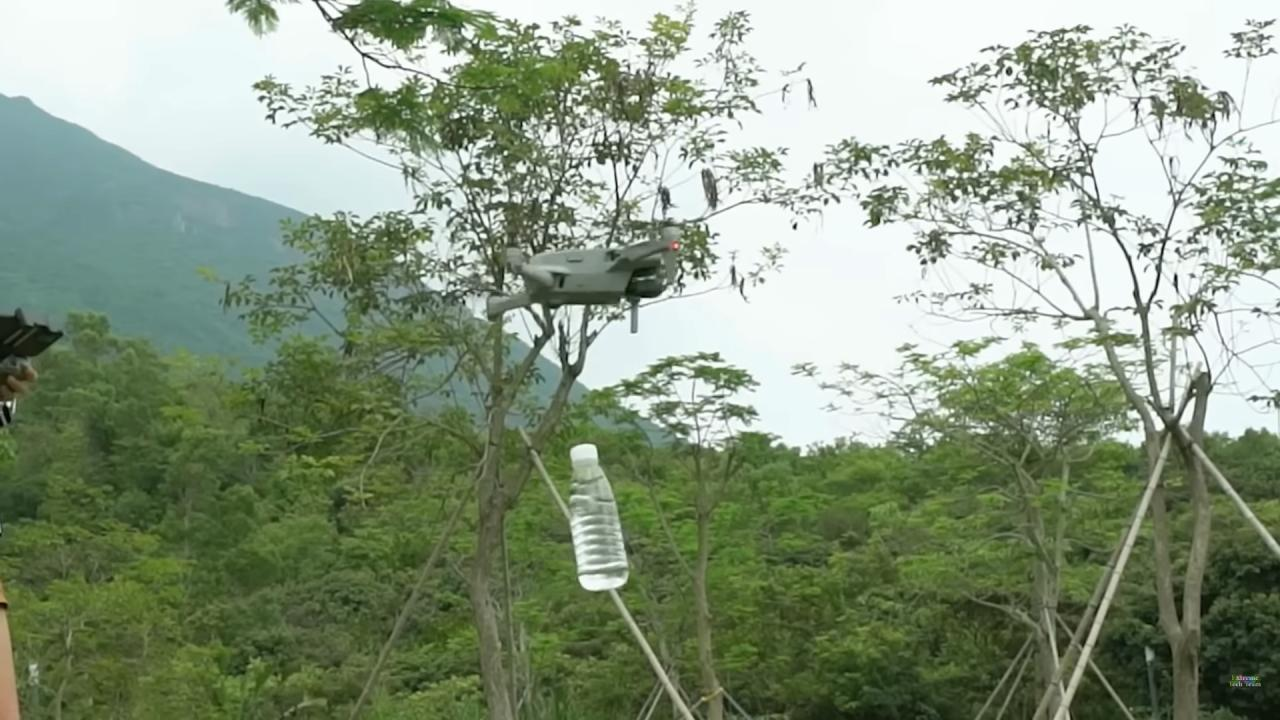Drone: (468, 206, 695, 345)
